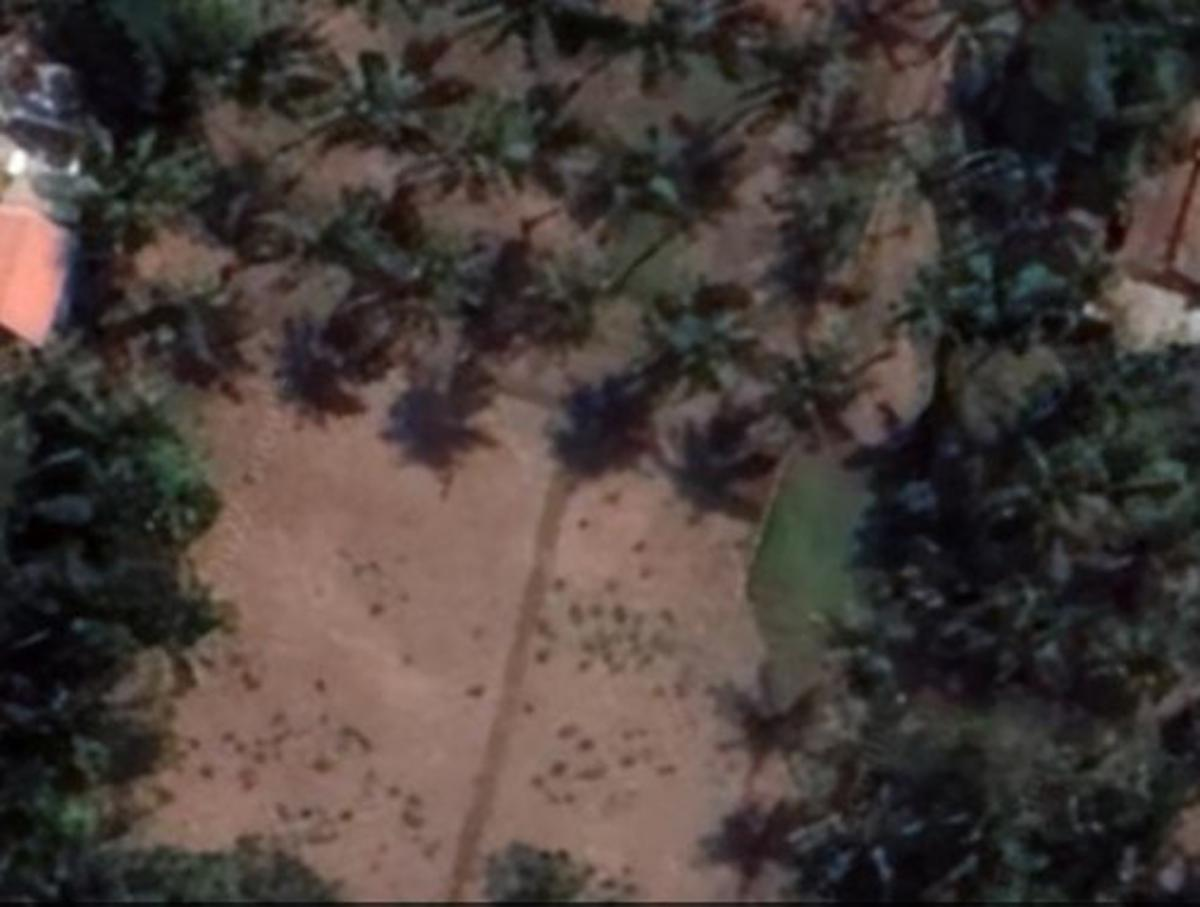coconut: (787, 322, 899, 434), (756, 9, 873, 116), (591, 112, 706, 219), (763, 174, 880, 269), (646, 291, 753, 393), (436, 85, 541, 179), (317, 59, 424, 145), (508, 248, 613, 331)
